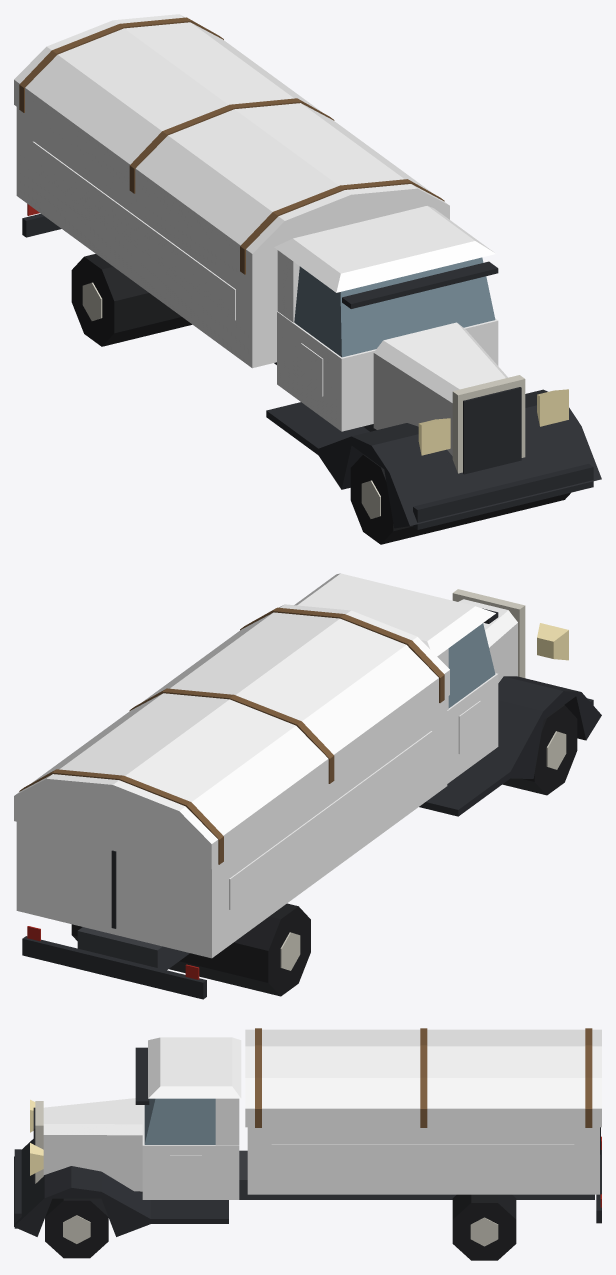
The model's file is truck.glb.
3 views of the same model, one above another, from view 1: azimuth 30°, elevation 25°; view 2: azimuth 150°, elevation 25°; view 3: azimuth 270°, elevation 25° (orthographic). The views are drawn at different scales.
Visible parts, largest first — view 1: model; view 2: model; view 3: model.
Boxes of the visible parts, x1=… form: model: x1=14, y1=14, x2=601, y2=544; model: x1=14, y1=573, x2=601, y2=999; model: x1=14, y1=1028, x2=601, y2=1260.
Size of the model in its own units: 2.5 by 2.86 by 8.51.
